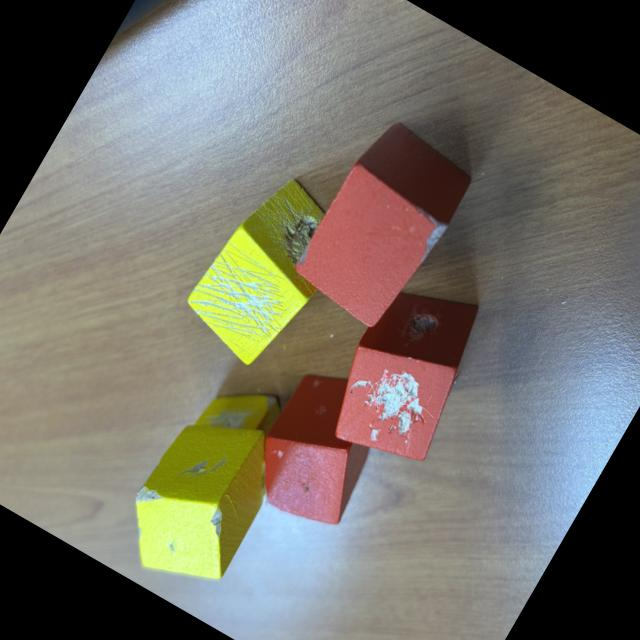broken: (284, 112, 480, 336), (312, 262, 504, 482), (107, 392, 296, 604), (176, 164, 359, 372), (240, 356, 405, 538), (174, 368, 308, 508)
